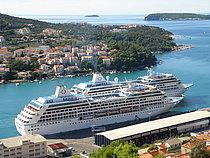Ship: (16, 82, 186, 139)
